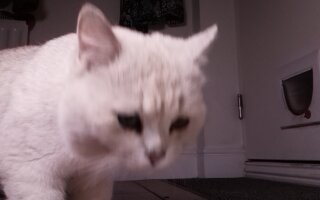bad: (2, 5, 219, 200)
